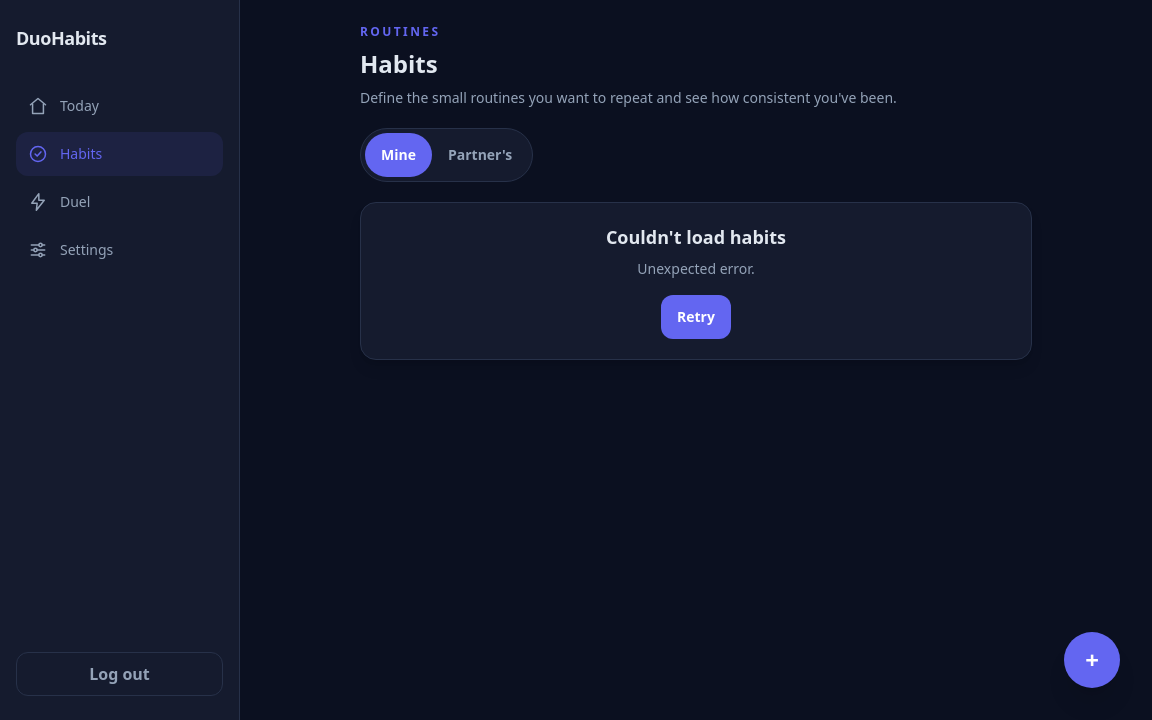
Test: HabitsPage › shows an error with retry when the habit list fails
Expected: the heading "Habits" is shown, [360,47,438,80]
Expected: the heading "Couldn't load habits" is shown, [606,225,786,249]
Click the button "Retry" at (696,317), box [661,295,731,339]
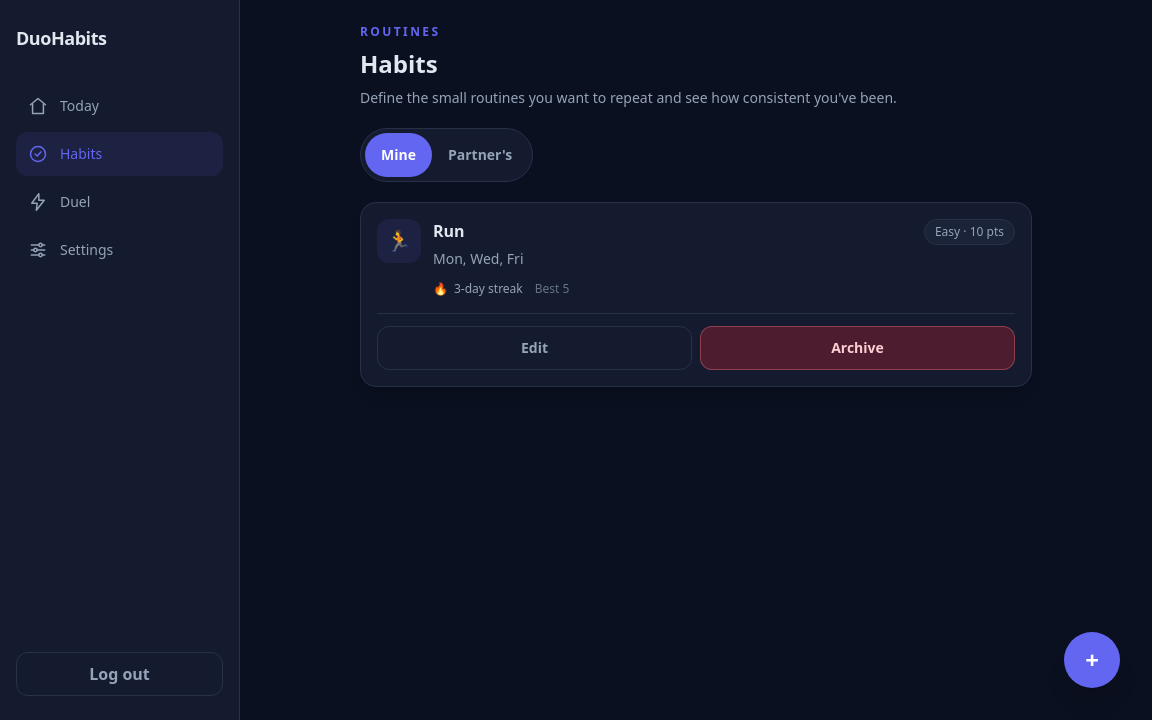
Result: the heading "Run" is shown at [433,219,465,243]
